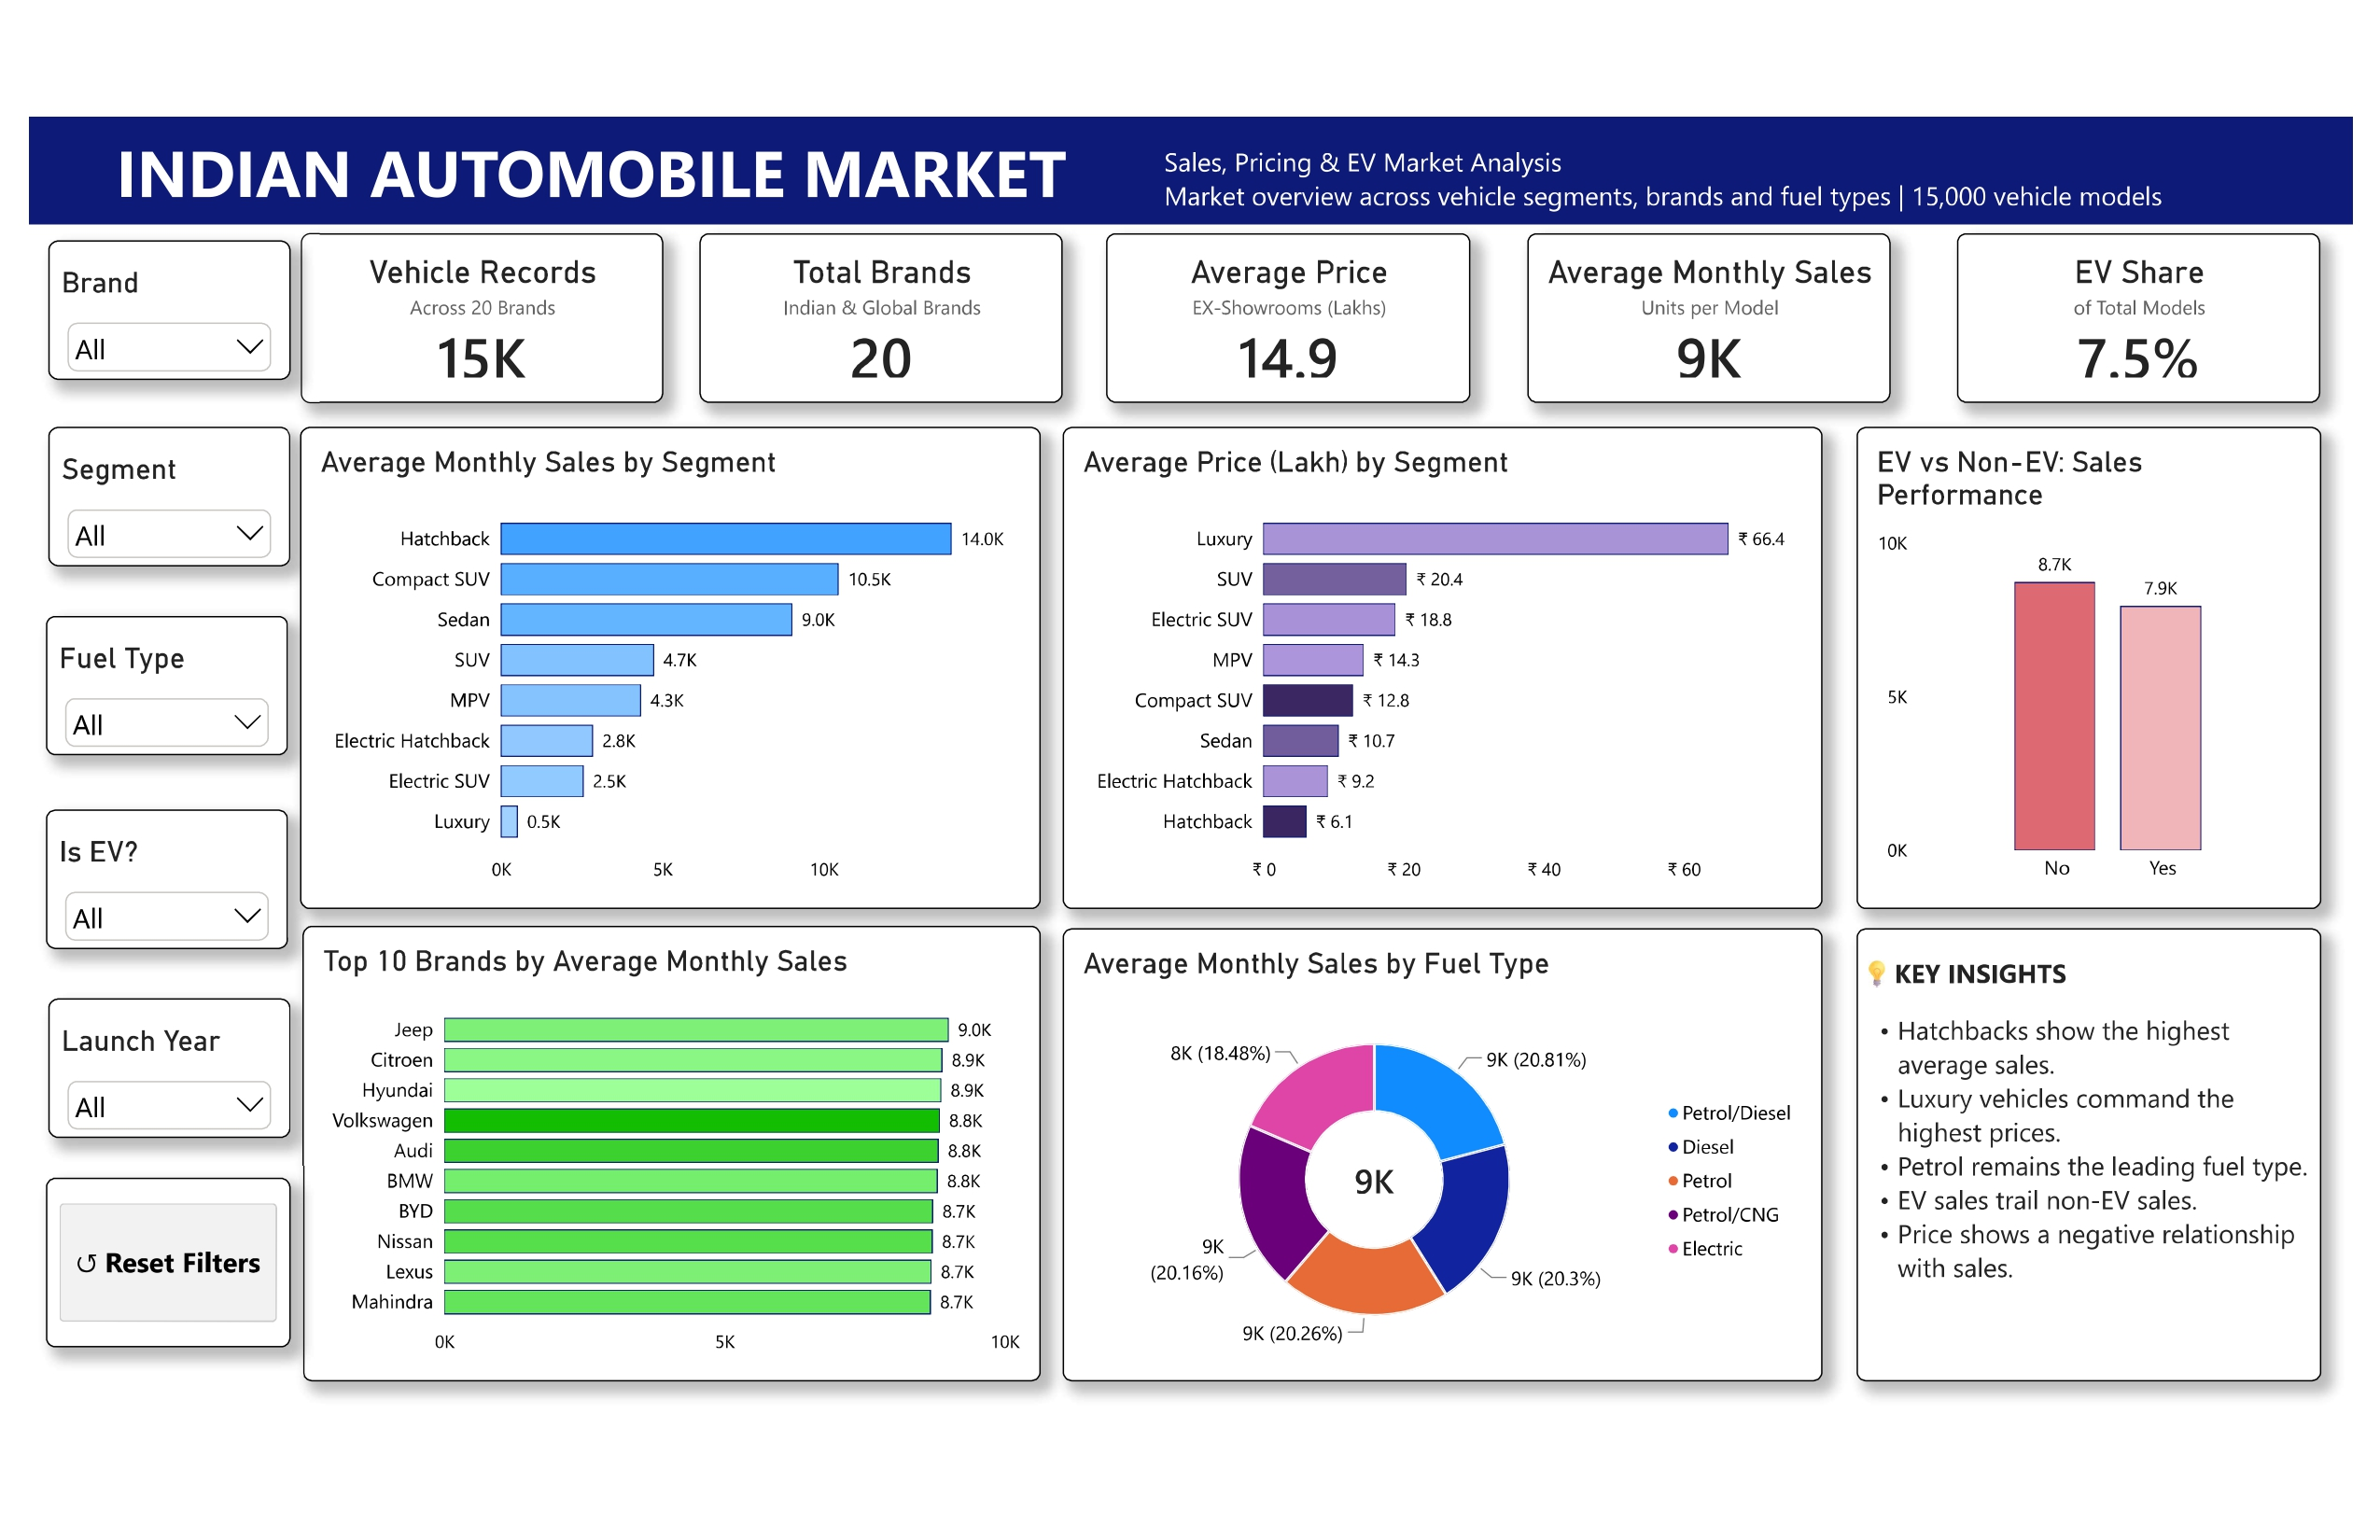

The page's visual inventory and layout, read from the dashboard file:
{"tool":"powerbi","page":{"name":"Market Overview","canvas":[1920,1080],"ordinal":0},"visuals":[{"type":"cardVisual","title":"Vehicle Records","fields":{"Data":["Auto Market Data.Total Vehicle Models"]},"box":[224,96,300,140],"z":0},{"type":"cardVisual","title":"Total Brands","fields":{"Data":["Auto Market Data.Total Brands"]},"box":[553.8,96.2,300,140],"z":1000},{"type":"cardVisual","title":"Average Price","fields":{"Data":["Auto Market Data.Average Price"]},"box":[890,96,301,140],"z":2000},{"type":"cardVisual","title":"Average Monthly Sales","fields":{"Data":["Auto Market Data.Average Monthly Sales"]},"box":[1238,96,300,140],"z":3000},{"type":"cardVisual","title":"EV Share","fields":{"Data":["Auto Market Data.EV Share %"]},"box":[1592.5,96.2,300,140],"z":4000},{"type":"slicer","title":"Brand","fields":{"Values":["Auto Market Data.Brand"]},"box":[16,102,200,115],"z":5000},{"type":"slicer","title":"Segment","fields":{"Values":["Auto Market Data.Segment"]},"box":[16,256,200,115],"z":6000},{"type":"slicer","title":"Fuel Type","fields":{"Values":["Auto Market Data.Fuel Type"]},"box":[14,412,200,115],"z":7000},{"type":"slicer","title":"Is EV?","fields":{"Values":["Auto Market Data.Is EV?"]},"box":[14,572,200,115],"z":8000},{"type":"slicer","title":"Launch Year","fields":{"Values":["Auto Market Data.Launch Year"]},"box":[16,728,200,115],"z":9000},{"type":"clusteredBarChart","title":"Average Monthly Sales by Segment","fields":{"Y":["Auto Market Data.Average Monthly Sales"],"Category":["Auto Market Data.Segment"]},"box":[224,256,612,398],"z":10000},{"type":"clusteredBarChart","title":"Average Price (Lakh) by Segment","fields":{"Y":["Auto Market Data.Average Price"],"Category":["Auto Market Data.Segment"]},"box":[854,256,628,398],"z":11000},{"type":"textbox","box":[0,0,1920,89],"z":12000},{"type":"textbox","title":"INDIAN AUTOMOBILE MARKET ","box":[72,8,818,70],"z":13000},{"type":"textbox","title":"Sales, Pricing & EV Market Analysis Market overview across vehicle segments, brands and fuel types | 15,000 vehicle models","box":[938,22,842,68],"z":14000},{"type":"clusteredBarChart","title":"Top 10 Brands by Average Monthly Sales","fields":{"Category":["Auto Market Data.Brand"],"Y":["Auto Market Data.Average Monthly Sales"]},"box":[226,668,610,376],"z":15000},{"type":"donutChart","title":"Average Monthly Sales by Fuel Type","fields":{"Category":["Auto Market Data.Fuel Type"],"Y":["Auto Market Data.Average Monthly Sales"]},"box":[854,670,628,374],"z":16000},{"type":"clusteredColumnChart","title":"EV vs Non-EV: Sales Performance","fields":{"Category":["Auto Market Data.Is EV?"],"Y":["Auto Market Data.Average Monthly Sales"]},"box":[1510,256,384,398],"z":17000},{"type":"actionButton","title":"Reset Filters","box":[14,876,202,140],"z":18000},{"type":"shape","box":[1510,670,384,374],"z":19000},{"type":"textbox","box":[1512,692,382,334],"z":20000}]}

Visuals, with their boxes in screenshot pixels (x1, y1, x2, y2):
"Vehicle Records" cardVisual: x1=287 y1=223 x2=653 y2=394
"Total Brands" cardVisual: x1=690 y1=223 x2=1057 y2=394
"Average Price" cardVisual: x1=1100 y1=223 x2=1468 y2=394
"Average Monthly Sales" cardVisual: x1=1526 y1=223 x2=1893 y2=394
"EV Share" cardVisual: x1=1959 y1=223 x2=2326 y2=394
"Brand" slicer: x1=32 y1=230 x2=276 y2=371
"Segment" slicer: x1=32 y1=418 x2=276 y2=559
"Fuel Type" slicer: x1=30 y1=609 x2=274 y2=749
"Is EV?" slicer: x1=30 y1=805 x2=274 y2=945
"Launch Year" slicer: x1=32 y1=995 x2=276 y2=1136
"Average Monthly Sales by Segment" clusteredBarChart: x1=287 y1=418 x2=1034 y2=904
"Average Price (Lakh) by Segment" clusteredBarChart: x1=1057 y1=418 x2=1824 y2=904
textbox: x1=12 y1=105 x2=2359 y2=214
"INDIAN AUTOMOBILE MARKET " textbox: x1=101 y1=115 x2=1100 y2=201
"Sales, Pricing & EV Market Analysis Market overview across vehicle segments, brands and fuel types | 15,000 vehicle models" textbox: x1=1159 y1=133 x2=2189 y2=216
"Top 10 Brands by Average Monthly Sales" clusteredBarChart: x1=288 y1=922 x2=1034 y2=1381
"Average Monthly Sales by Fuel Type" donutChart: x1=1057 y1=924 x2=1824 y2=1381
"EV vs Non-EV: Sales Performance" clusteredColumnChart: x1=1858 y1=418 x2=2328 y2=904
"Reset Filters" actionButton: x1=30 y1=1176 x2=276 y2=1348
shape: x1=1858 y1=924 x2=2328 y2=1381
textbox: x1=1861 y1=951 x2=2328 y2=1360
